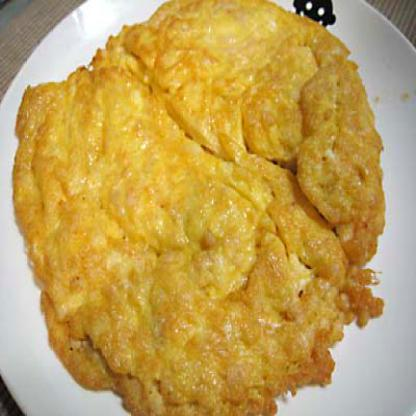Omelette: (16, 0, 402, 409)
